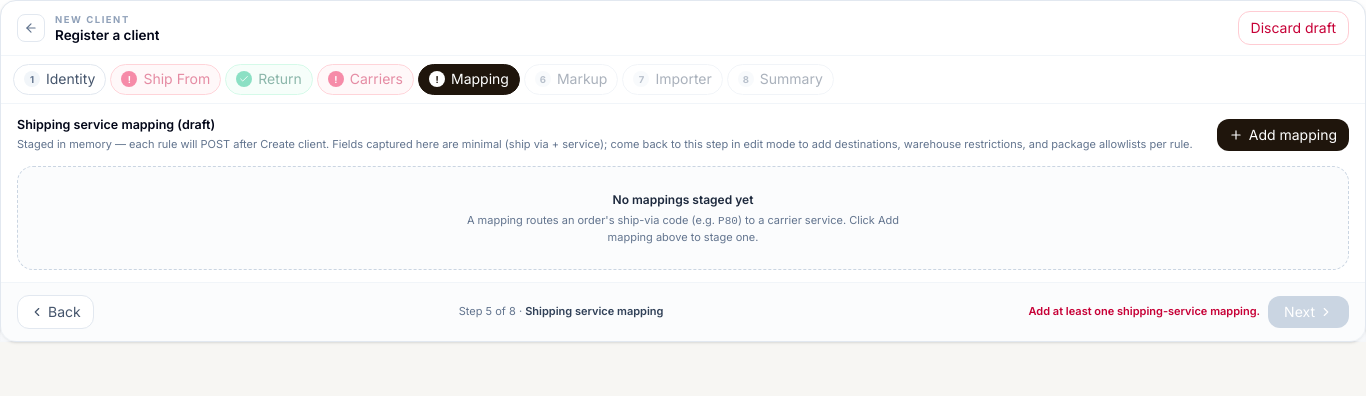
Test case: MappingDraftStep — create mode positive cases › opens the draft form when Add mapping is clicked
This screenshot has width=1366, height=396.
Expected: the heading "Shipping service mapping (draft)" is shown, [17,117,215,132]
Click the button "Add mapping". click: (1283, 135)
box: [1217,118,1349,151]
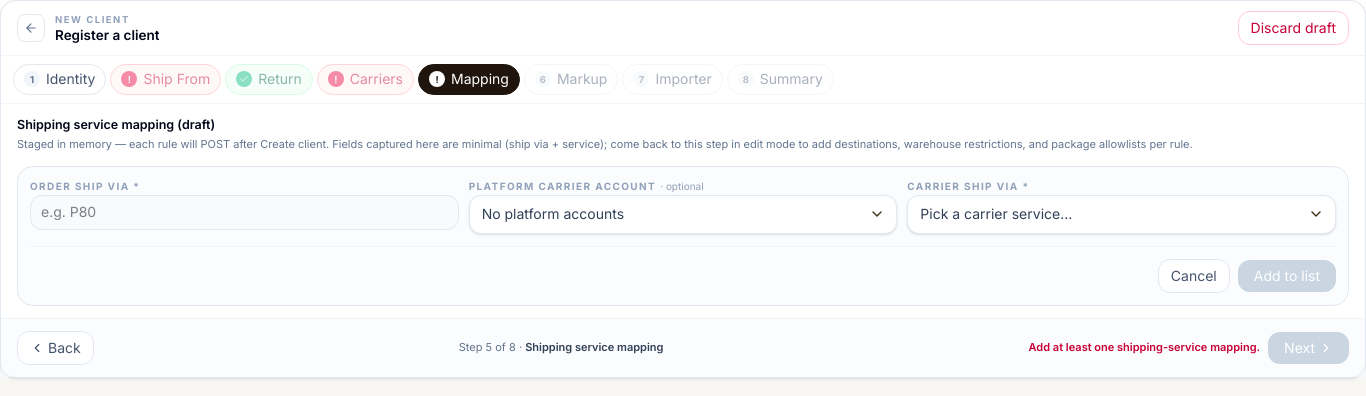
Expected: the field with placeholder "e.g. P80" is shown, [30,195,459,230]
Expected: the button "Add to list" is shown, [1238,260,1336,292]
Expected: the button "Cancel" is shown, [1158,258,1230,293]
